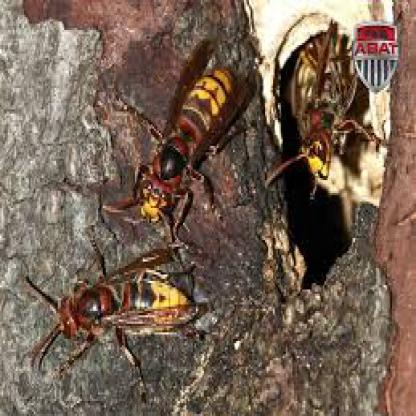european: (109, 38, 244, 220), (36, 244, 202, 380)
